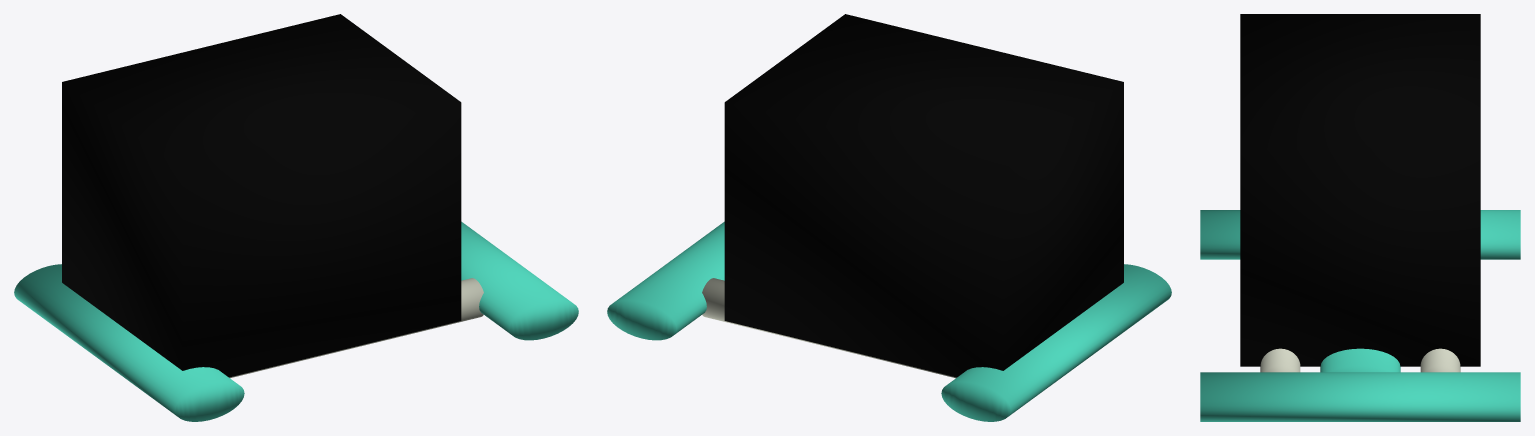
The picture shows the model from 3 angles, left to right: view 1: azimuth 30°, elevation 25°; view 2: azimuth 150°, elevation 25°; view 3: azimuth 270°, elevation 25°; orthographic projection.
Visible parts, largest first — view 1: Body.000; view 2: Body.000; view 3: Body.000.
Boxes of the visible parts, left/top/right/bottom form: Body.000: left=14, top=14, right=578, bottom=421; Body.000: left=607, top=14, right=1171, bottom=421; Body.000: left=1200, top=14, right=1520, bottom=421.
Bounding box in the file's own units: 0.58 × 0.4 × 0.325.
